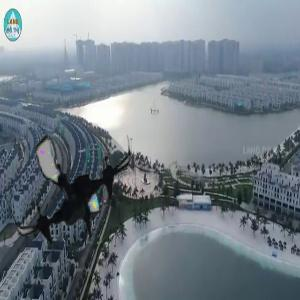drone: (7, 125, 139, 257)
